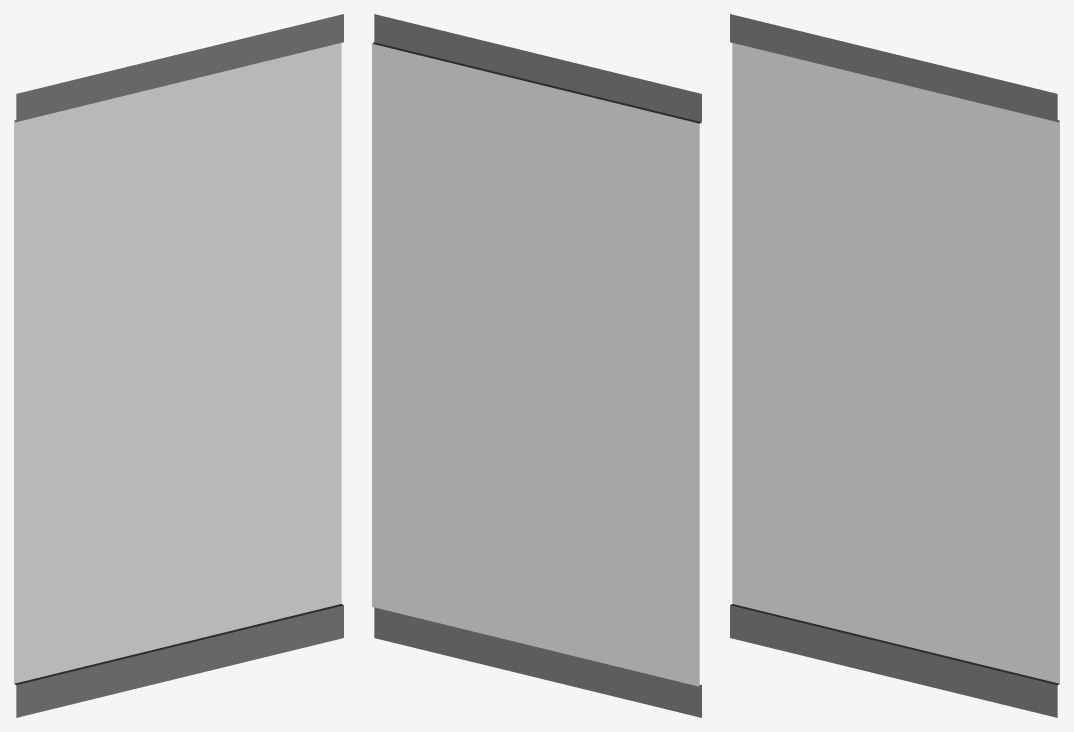
File: WallLarge1.glb
The picture shows the model from 3 angles, left to right: view 1: azimuth 30°, elevation 25°; view 2: azimuth 150°, elevation 25°; view 3: azimuth 330°, elevation 25°; orthographic projection.
Parts seen in each view (by area): view 1: SI_Env_Wall_Large_01; view 2: SI_Env_Wall_Large_01; view 3: SI_Env_Wall_Large_01.
Boxes of the visible parts, x1,y1,x2,y2 form: SI_Env_Wall_Large_01: (14,14,343,717); SI_Env_Wall_Large_01: (372,14,701,717); SI_Env_Wall_Large_01: (730,14,1059,717).
Size of the model in its own units: 0.05 by 0.091 by 0.000549.
1 material, 1 textured.
